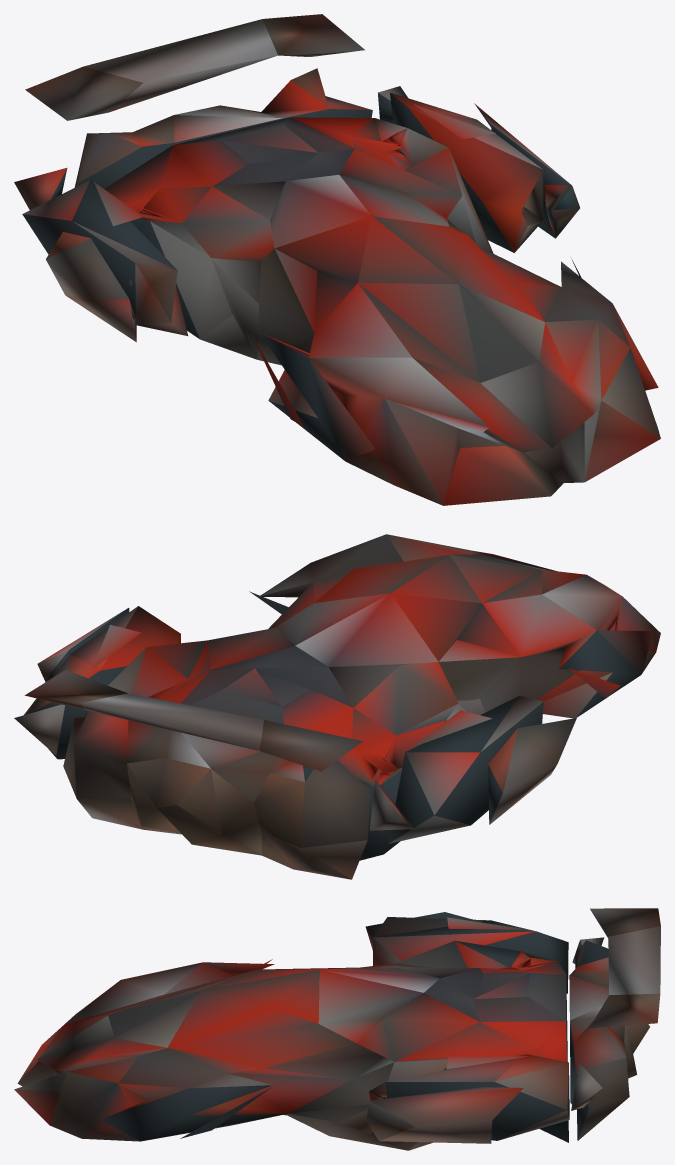
Rendered from arrow-lod.glb.
3 views of the same model, one above another, from view 1: azimuth 30°, elevation 25°; view 2: azimuth 150°, elevation 25°; view 3: azimuth 270°, elevation 25° (orthographic). The views are drawn at different scales.
Parts seen in each view (by area): view 1: SM_Arrow_Instanced_LOD; view 2: SM_Arrow_Instanced_LOD; view 3: SM_Arrow_Instanced_LOD.
Boxes of the visible parts, bbox=[...] form: SM_Arrow_Instanced_LOD: bbox=[14, 14, 660, 505]; SM_Arrow_Instanced_LOD: bbox=[14, 534, 660, 879]; SM_Arrow_Instanced_LOD: bbox=[14, 908, 660, 1150].
Size of the model in its own units: 2.73 by 1.31 by 3.97.
